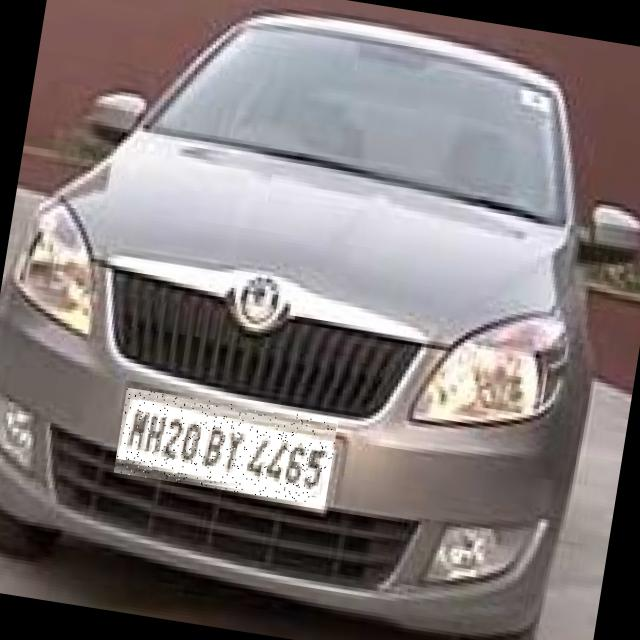Plate: (115, 389, 340, 507)
